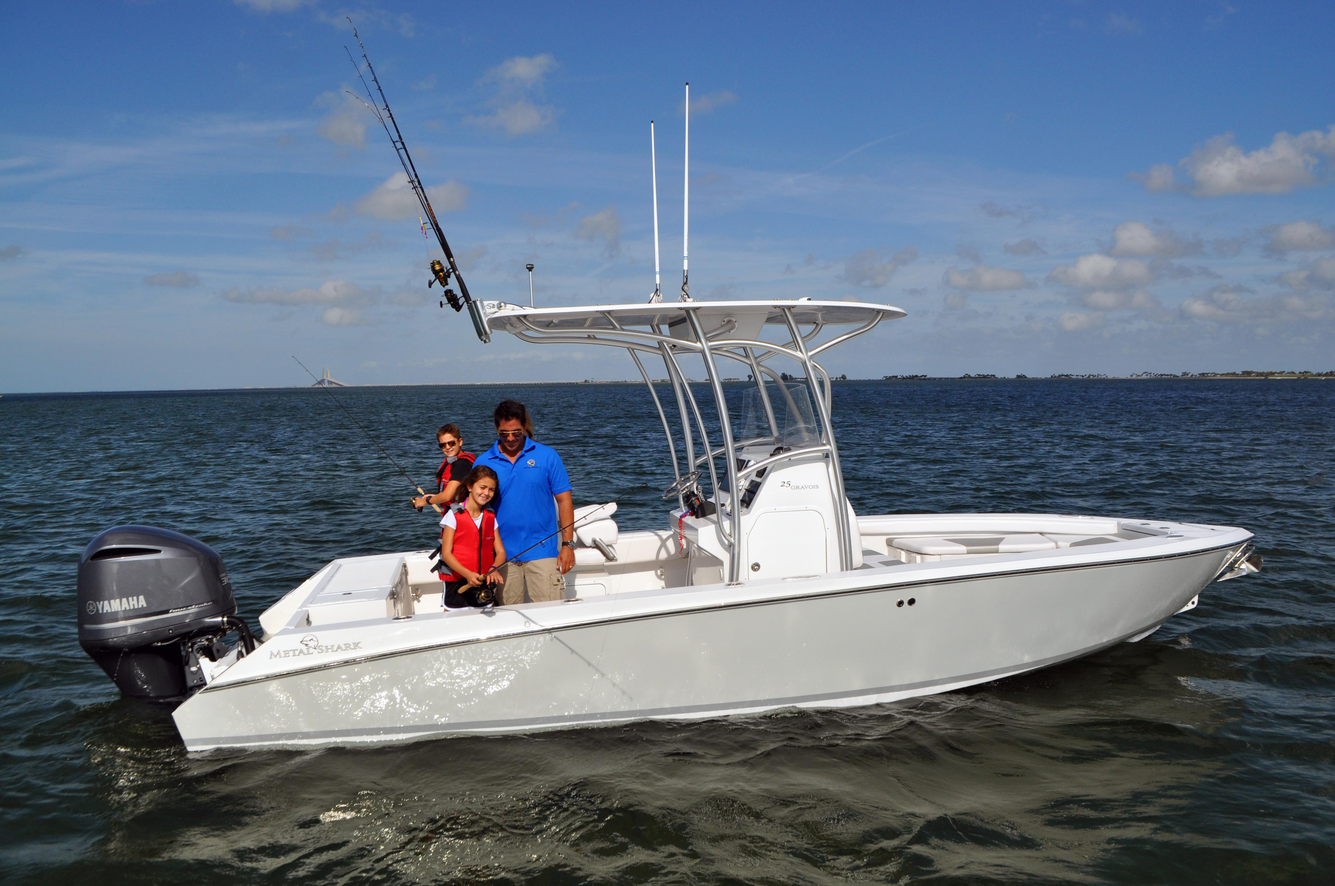fishing boat: (60, 5, 1267, 763)
